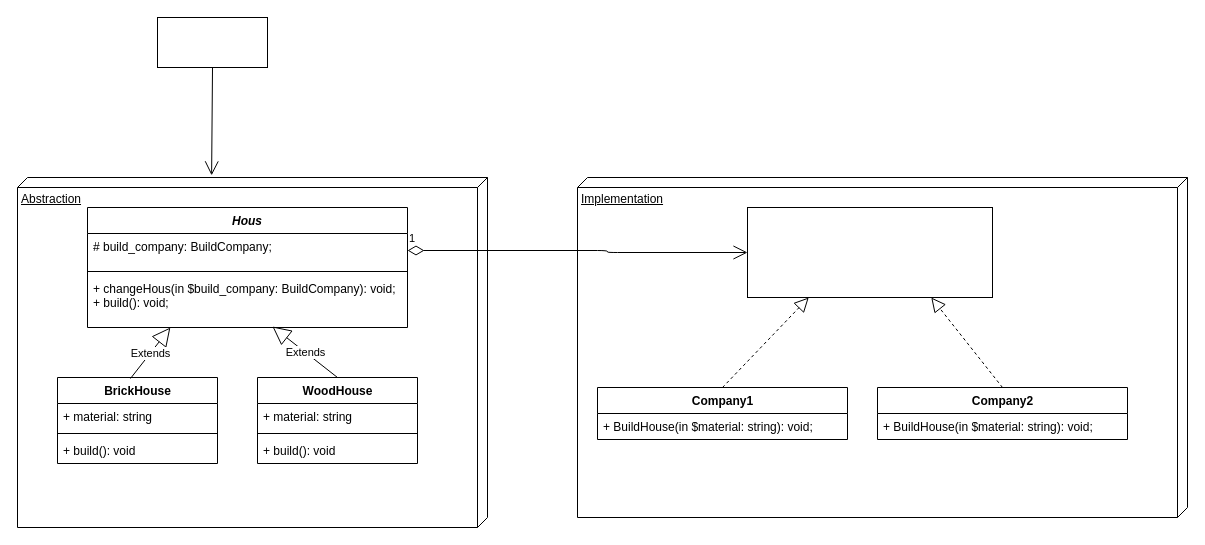
Some shapes in this 1205 by 545 pixel diagram are drawn without their labels. Here are the shapes that lost their labels. From the top down, the centre of each, then its label:
the point at 212,42: clientCode
the point at 869,252: <<Interface>> BuildCompany + BuildHous(in $material: string): void;
